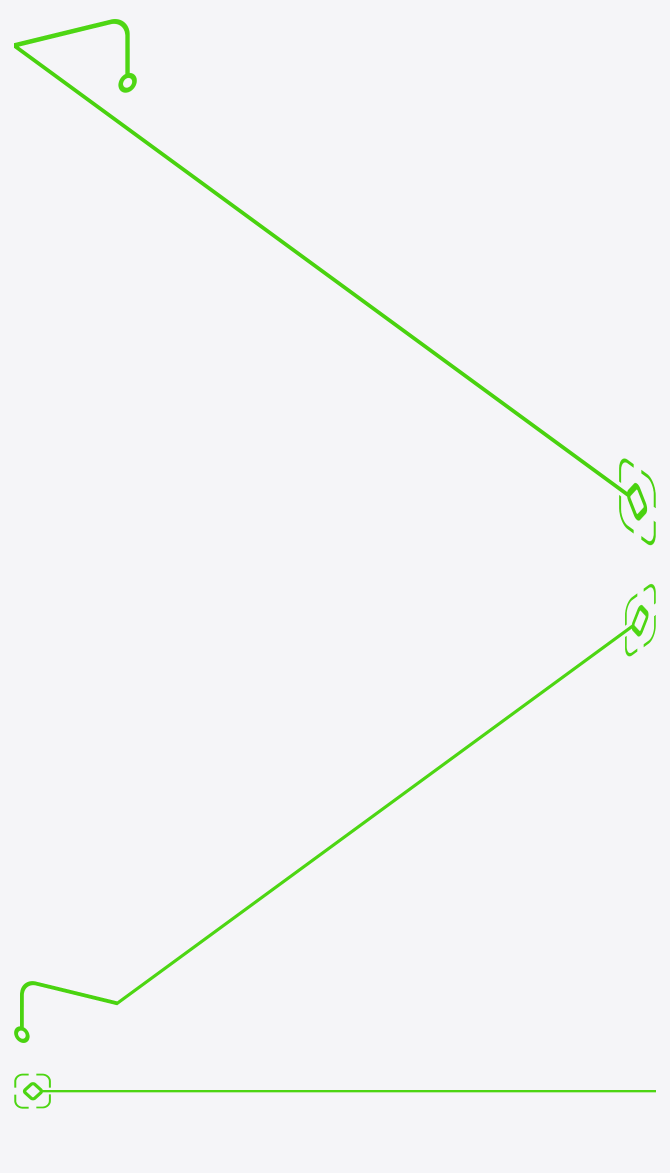
File: 10_3_cl_active.glb
3 views of the same model, one above another, from view 1: azimuth 30°, elevation 25°; view 2: azimuth 150°, elevation 25°; view 3: azimuth 270°, elevation 25° (orthographic). The views are drawn at different scales.
Parts seen in each view (by area): view 1: 10_3_cl_active; view 2: 10_3_cl_active; view 3: 10_3_cl_active.
Part boxes in pixels (box(x1,y1,x2,y2)): 10_3_cl_active: box(14, 19, 655, 545); 10_3_cl_active: box(14, 584, 655, 1042); 10_3_cl_active: box(14, 1073, 655, 1108).
Size of the model in its own units: 2.15 by 1.84 by 19.44.
Materials: 1 (1 with a texture image).
